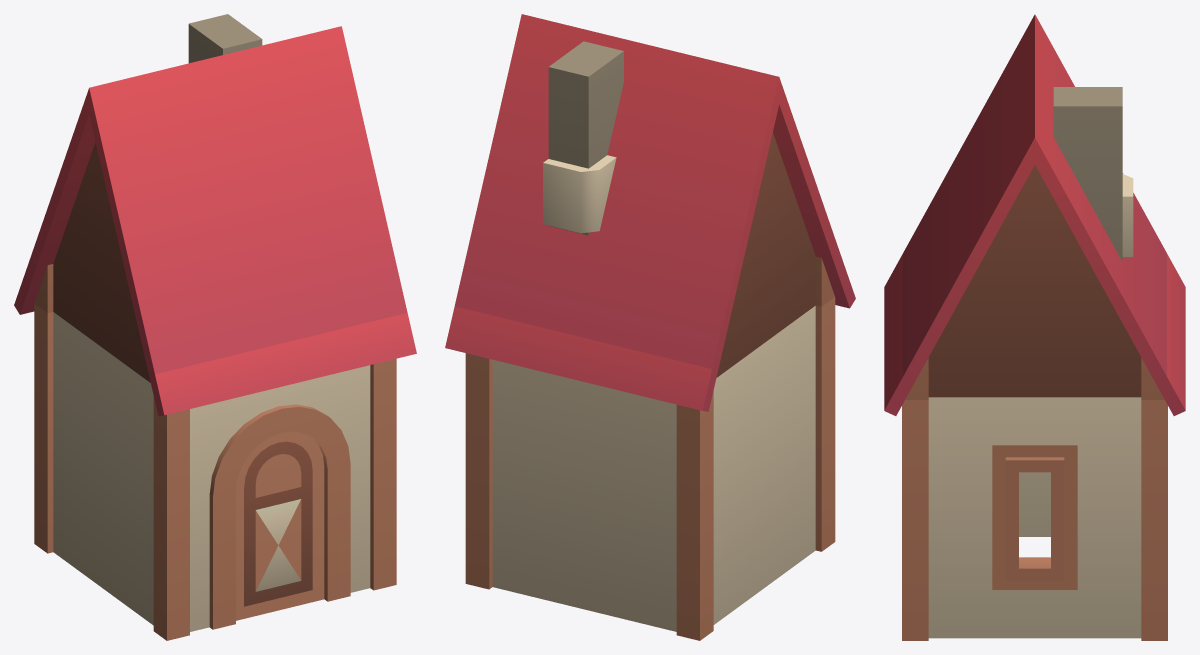
File: home-steep-gable.glb
The picture shows the model from 3 angles, left to right: view 1: azimuth 30°, elevation 25°; view 2: azimuth 150°, elevation 25°; view 3: azimuth 270°, elevation 25°; orthographic projection.
Visible parts, largest first — view 1: roof-high-gable, wall (×2), wall-door, door, wall-window-small, chimney; view 2: roof-high-gable, wall (×2), chimney, wall-window-small, wall-door; view 3: roof-high-gable, wall-window-small, chimney, wall (×2), wall-door.
Part boxes in pixels (x1,y1,x2,y2): roof-high-gable: (14, 26, 416, 416); wall (×2): (34, 304, 189, 640); wall-door: (153, 359, 396, 640); door: (236, 431, 324, 620); wall-window-small: (370, 358, 396, 590); chimney: (188, 14, 262, 63); roof-high-gable: (445, 14, 855, 411); wall (×2): (465, 297, 835, 640); chimney: (543, 41, 623, 235); wall-window-small: (465, 353, 492, 589); wall-door: (815, 298, 835, 551); roof-high-gable: (884, 14, 1185, 415); wall-window-small: (902, 397, 1167, 640); chimney: (1053, 87, 1133, 261); wall (×2): (1019, 400, 1167, 640); wall-door: (902, 400, 928, 640).
Bounding box in the file's own units: 1.1 × 2.11 × 1.13.
1 material, 1 textured.
